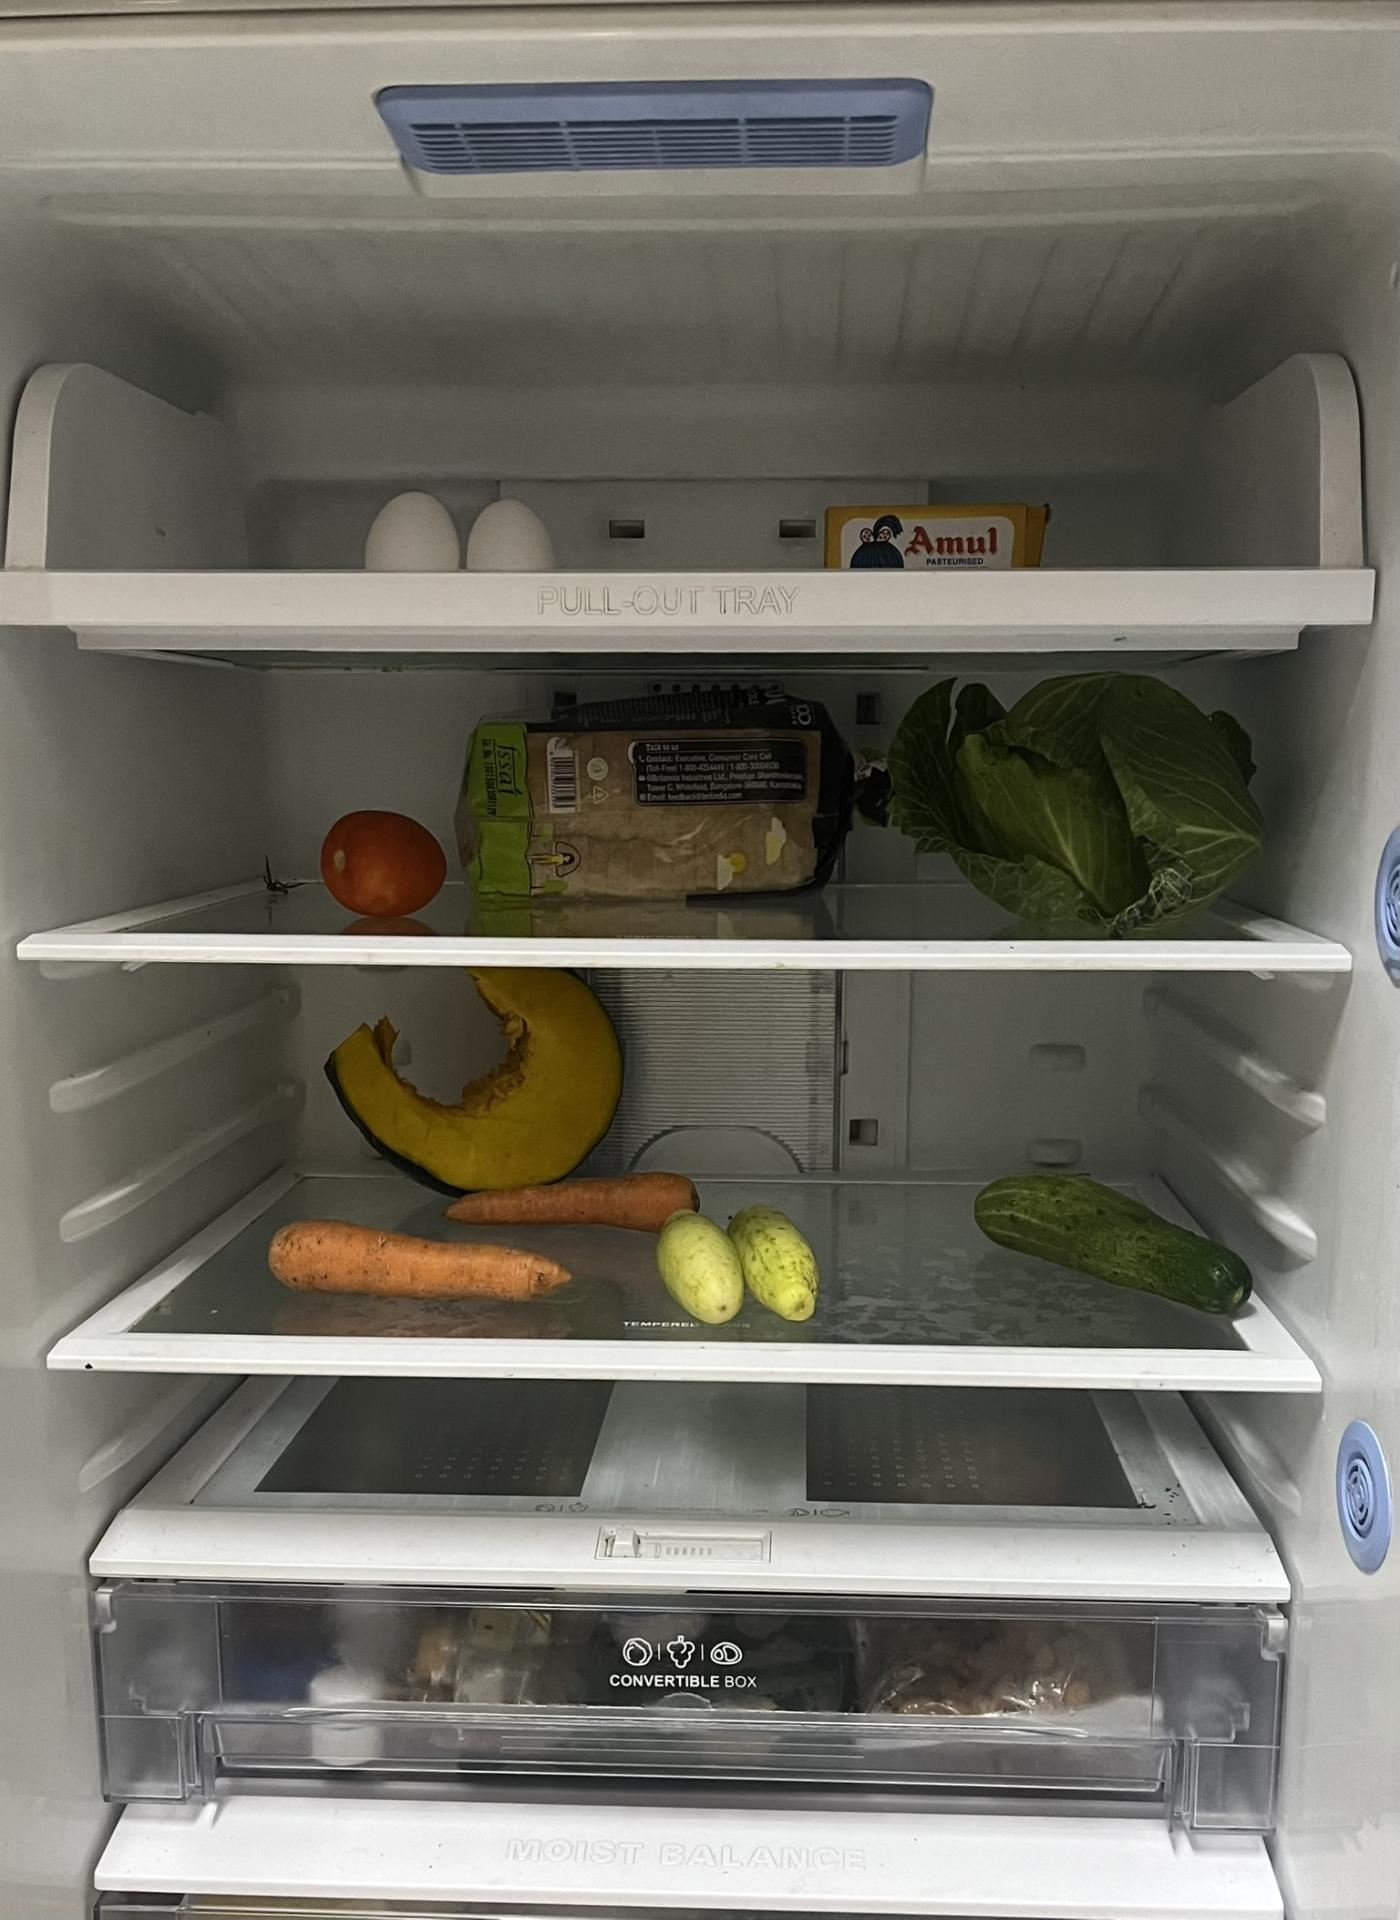bread: (473, 690, 865, 896)
butter: (824, 496, 1045, 574)
cabbage: (902, 674, 1269, 927)
carrots: (258, 1225, 571, 1298), (455, 1166, 705, 1227)
cucumber: (980, 1169, 1266, 1325)
egg: (364, 481, 561, 577)
lemon: (660, 1204, 824, 1330)
pumpkin: (324, 970, 628, 1190)
tomato: (316, 811, 447, 917)
